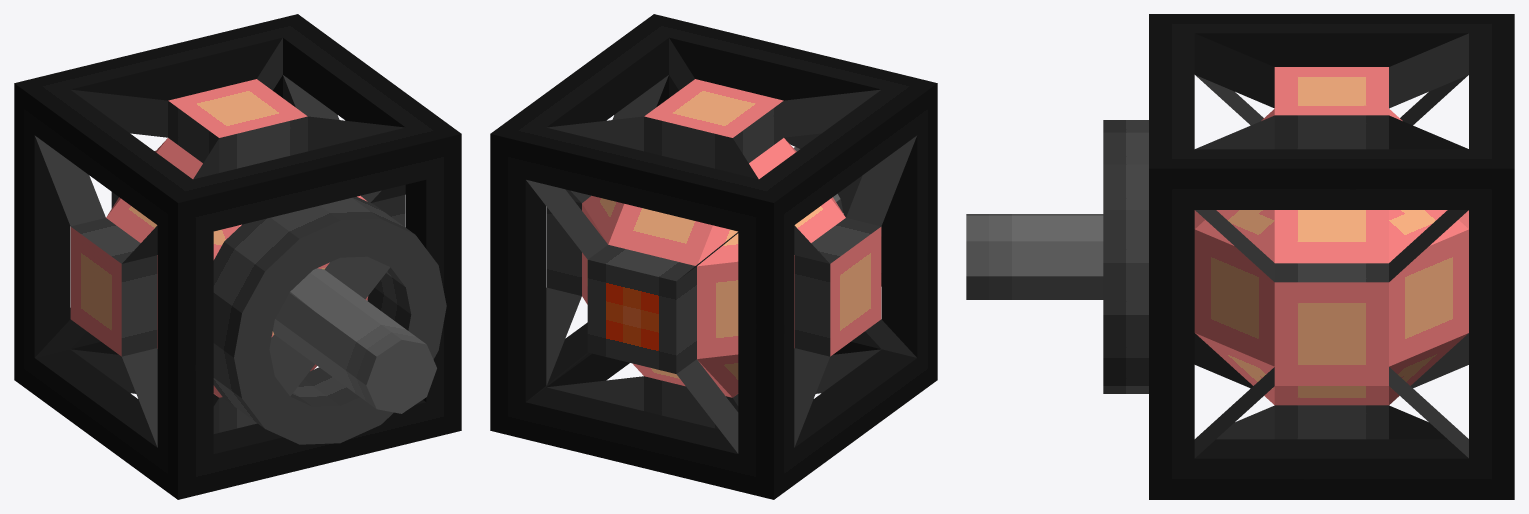
The model's file is core_emitter.obj.
The picture shows the model from 3 angles, left to right: view 1: azimuth 30°, elevation 25°; view 2: azimuth 150°, elevation 25°; view 3: azimuth 270°, elevation 25°; orthographic projection. The views are drawn at different scales.
Visible parts, largest first — view 1: Cube_Cube.001; view 2: Cube_Cube.001; view 3: Cube_Cube.001.
Boxes of the visible parts, x1,y1,x2,y2 form: Cube_Cube.001: [14, 14, 461, 499]; Cube_Cube.001: [490, 14, 937, 499]; Cube_Cube.001: [966, 14, 1514, 499].
Bounding box in the file's own units: 1 × 1 × 1.5.
